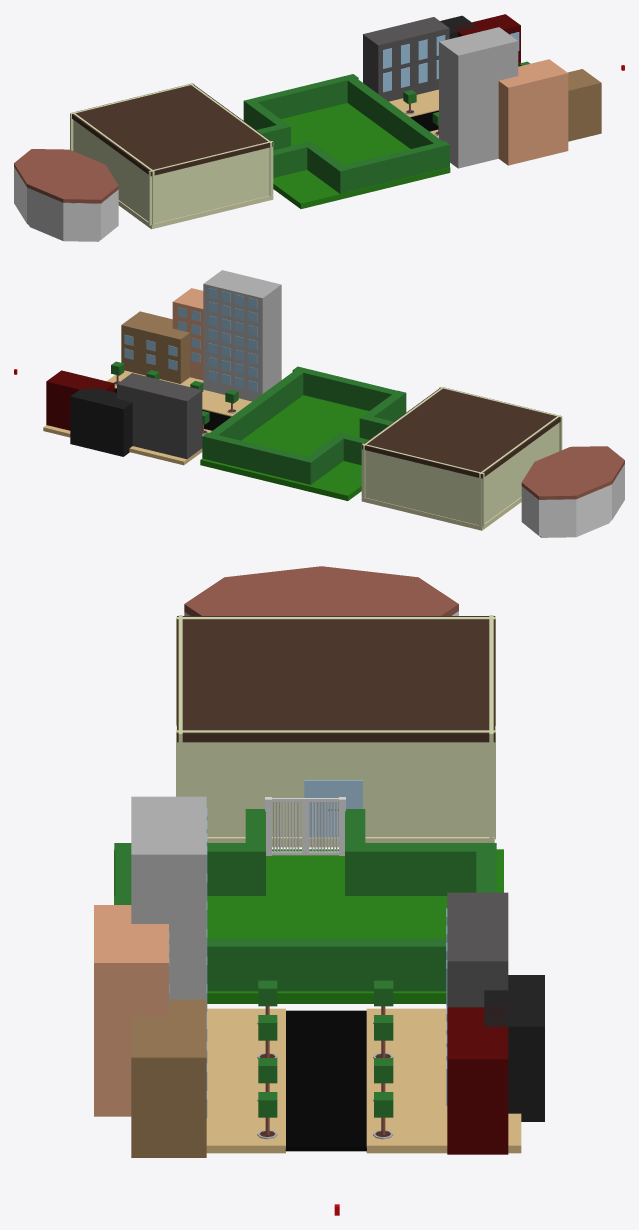
The model's file is Attack_Levels_.fbx.
3 renders of one model, top to bottom at view 1: azimuth 30°, elevation 25°; view 2: azimuth 150°, elevation 25°; view 3: azimuth 270°, elevation 25°, orthographic. The views are drawn at different scales.
Parts seen in each view (by area): view 1: Cube.227, roof.001, Cube.125, Cube.160, Cube.141, Cube.162, Cube.145, Roof.001, Walls.001, Cube.161, Cube.151, Cube.124 (+3 smaller); view 2: Cube.227, roof.001, Cube.125, Cube.160, Cube.141, Cube.145, Roof.001, Walls.001, Cube.152, Cube.161, Cube.151, Cube.162 (+4 smaller); view 3: roof.001, Cube.125, Cube.227, Cube.141, Cube.160, Cube.223, Cube.162, Cube.161, Roof.001, Cube.157, Cube.158, Cube.151 (+5 smaller).
Boxes of the visible parts, x1,y1,x2,y2 form: Cube.227: (243,74,449,193); roof.001: (70,83,272,176); Cube.125: (70,83,273,225); Cube.160: (439,27,518,168); Cube.141: (273,103,450,208); Cube.162: (498,59,568,165); Cube.145: (363,17,449,101); Roof.001: (14,149,118,203); Walls.001: (14,167,118,241); Cube.161: (568,69,601,141); Cube.151: (452,14,520,66); Cube.124: (118,195,273,229); Cube.227: (202,366,406,484); roof.001: (362,387,561,478); Cube.125: (361,386,562,527); Cube.160: (203,270,281,401); Cube.141: (200,395,368,500); Cube.145: (117,373,202,459); Roof.001: (521,446,624,499); Walls.001: (521,464,624,537); Cube.152: (70,387,132,456); Cube.161: (121,311,189,383); Cube.151: (46,370,114,430); Cube.162: (172,288,203,380); roof.001: (177,616,495,742); Cube.125: (176,615,495,840); Cube.227: (114,809,496,991); Cube.141: (114,849,503,1003); Cube.160: (131,796,206,999); Cube.223: (285,1010,366,1151); Cube.162: (94,905,168,1116); Cube.161: (131,999,206,1157); Roof.001: (184,566,458,615); Cube.157: (366,1008,521,1153); Cube.158: (206,1008,285,1153); Cube.151: (447,1007,508,1154).
Bounding box in the file's own units: 13508 × 2523 × 4448.
